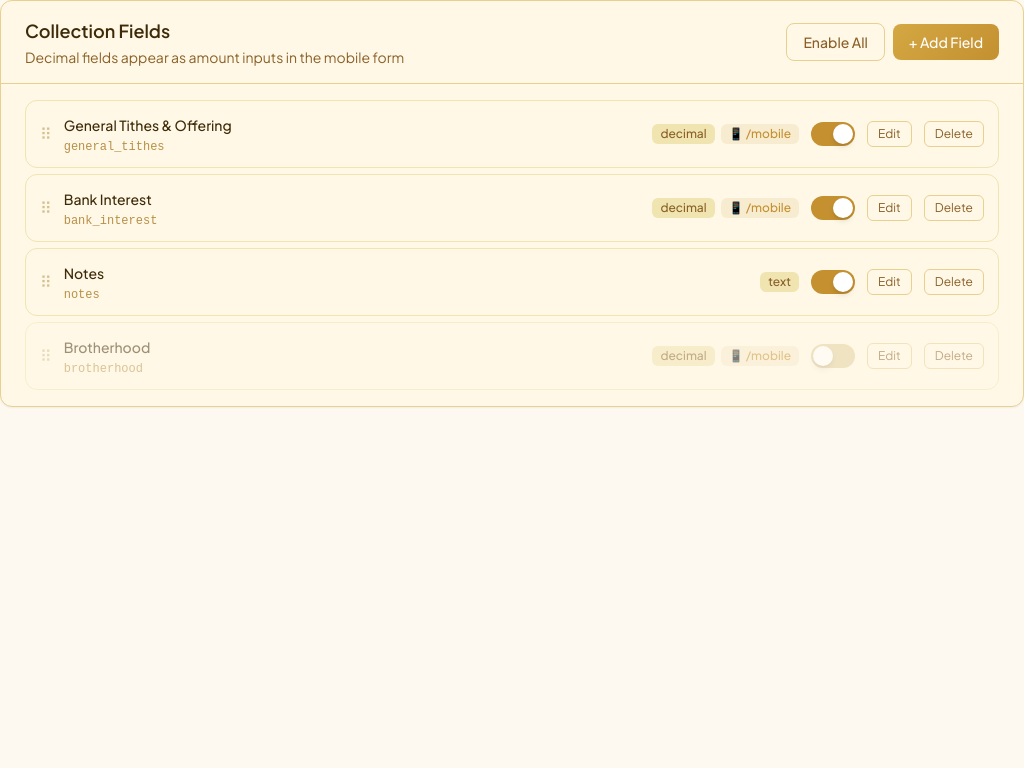
Advanced section is hidden by default and shows on click
Expected: the text "General Tithes & Offering" is shown, left=64, top=116, right=232, bottom=134
Click the button "+ Add Field" at coordinates (946, 42), box left=893, top=24, right=999, bottom=60
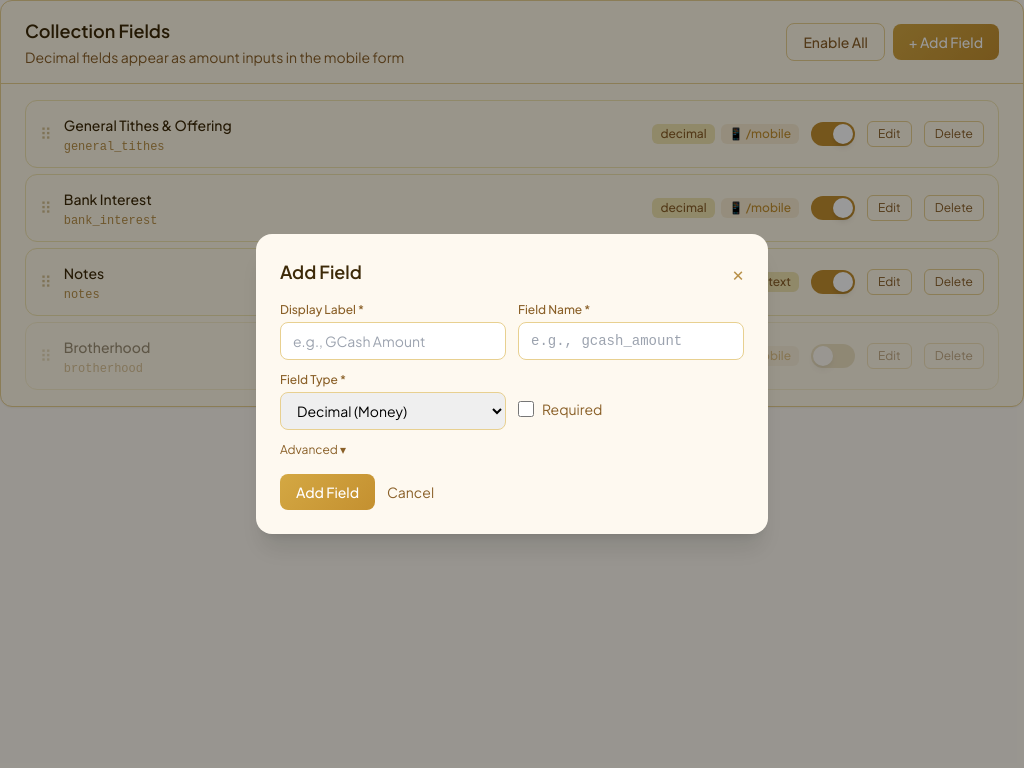
Expected: the text "Category" is not shown
Click the button "Advanced ▾" at coordinates (313, 450), box left=280, top=442, right=346, bottom=458
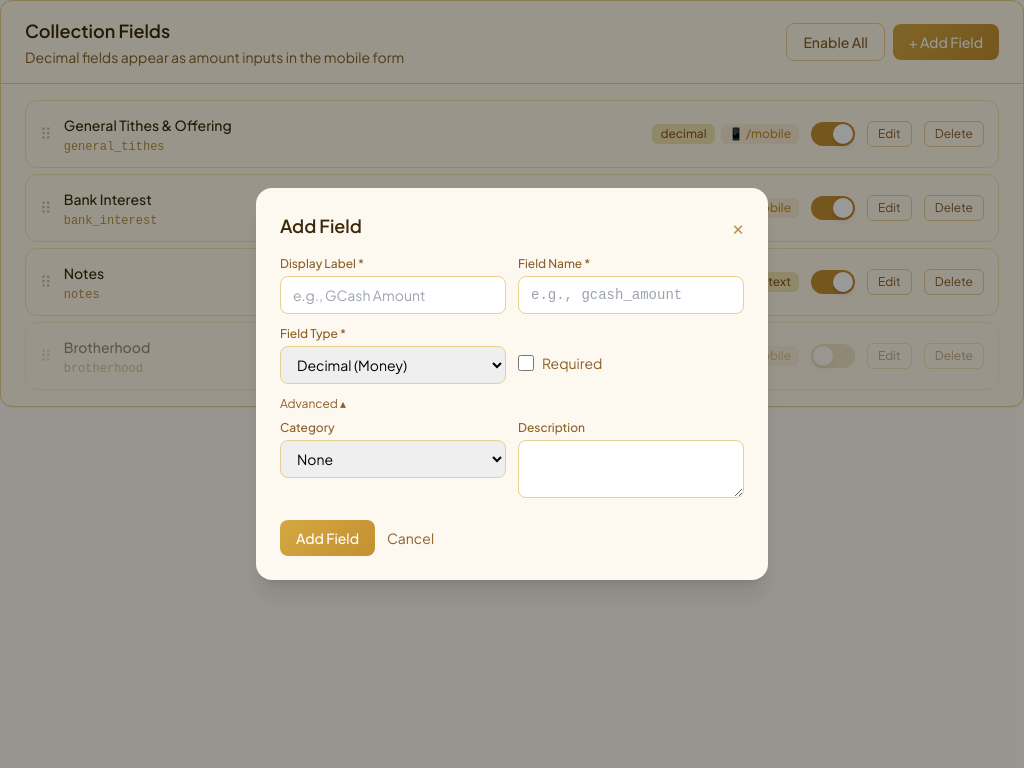
Result: the text "Category" is shown at left=280, top=420, right=334, bottom=435
Result: the text "Description" is shown at left=518, top=420, right=585, bottom=435
